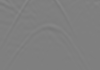hyperbola: (14, 22, 81, 62)
